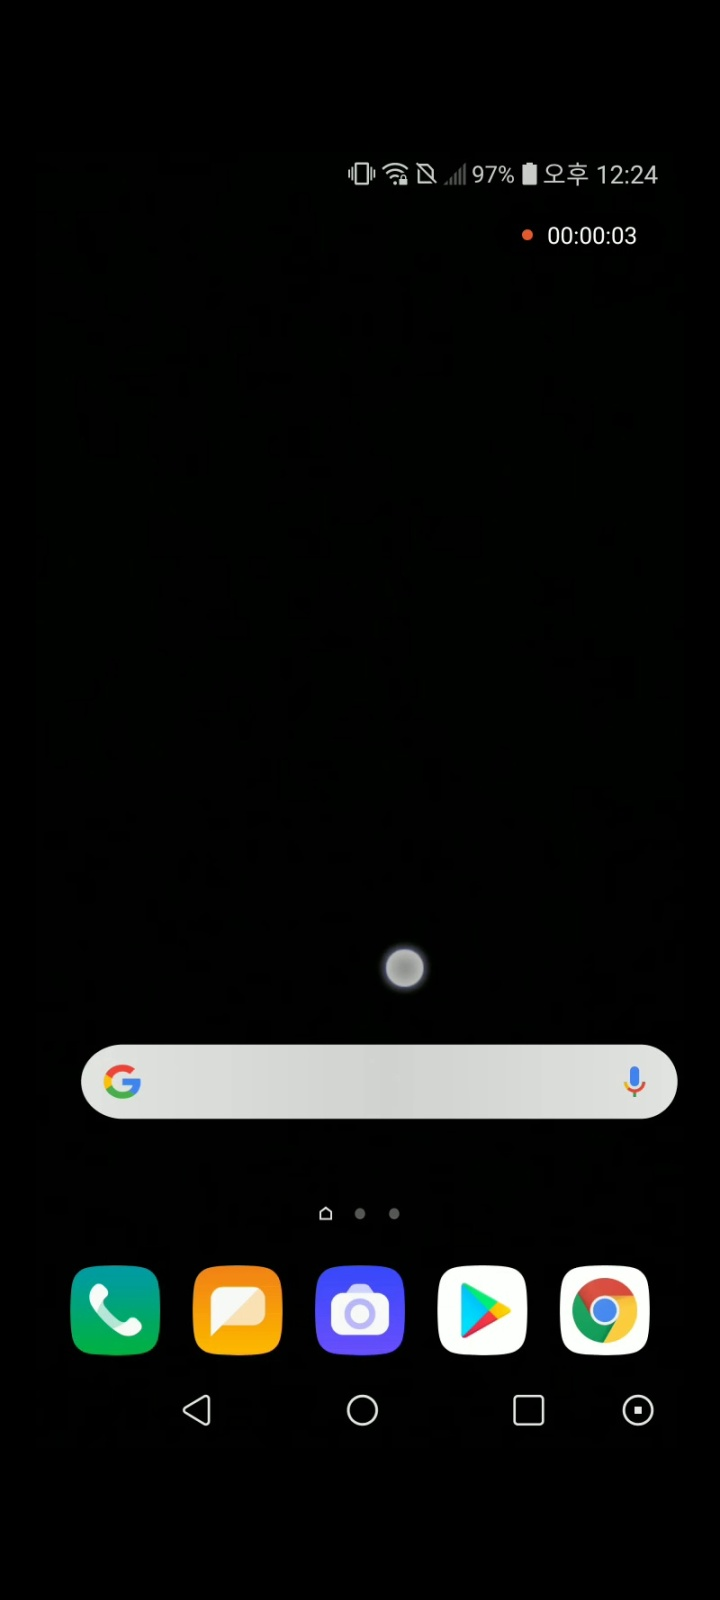Cursor: (383, 947, 428, 992)
